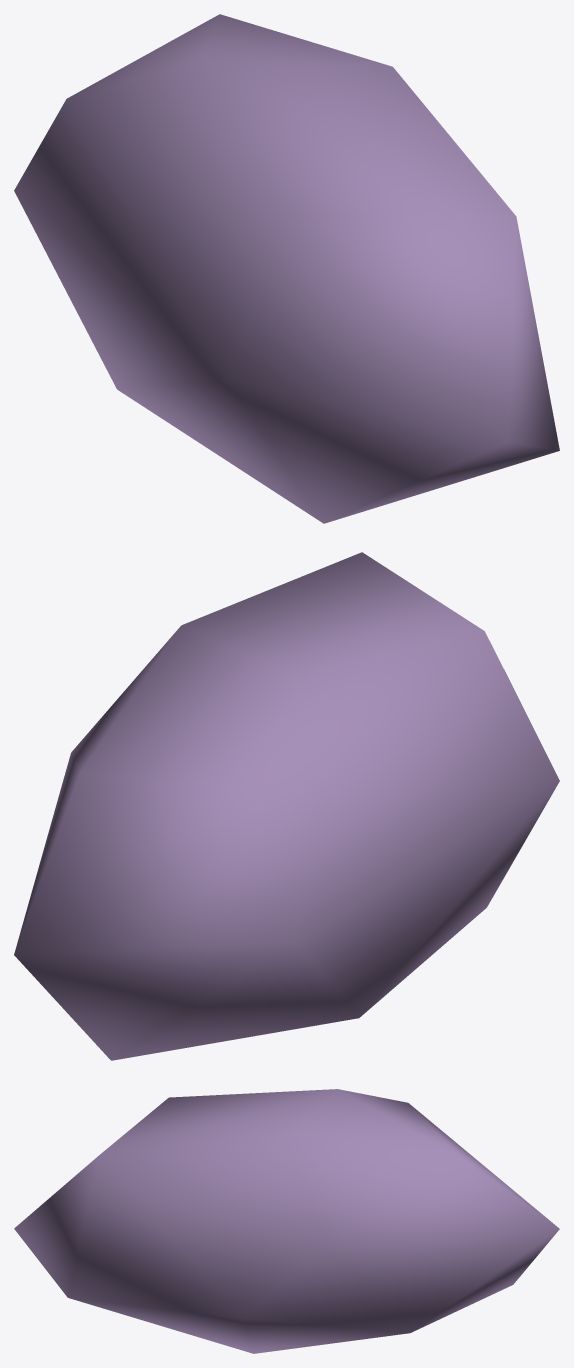
Rendered from rock_crystal_v1.glb.
3 renders of one model, top to bottom at view 1: azimuth 30°, elevation 25°; view 2: azimuth 150°, elevation 25°; view 3: azimuth 270°, elevation 25°, orthographic. The views are drawn at different scales.
Parts seen in each view (by area): view 1: rock; view 2: rock; view 3: rock.
Part boxes in pixels (x1=…): rock: x1=14, y1=14, x2=559, y2=523; rock: x1=14, y1=552, x2=559, y2=1060; rock: x1=14, y1=1089, x2=559, y2=1353.
Bounding box in the file's own units: 3.47 × 3.63 × 7.47.
